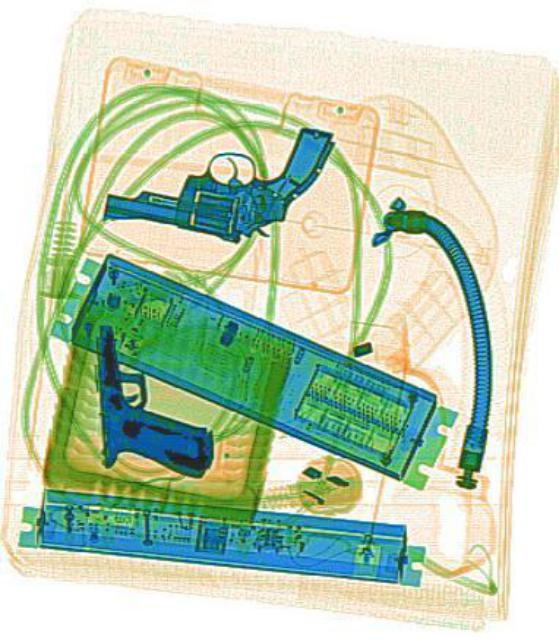Gun: (98, 94, 335, 252), (91, 316, 214, 482)
